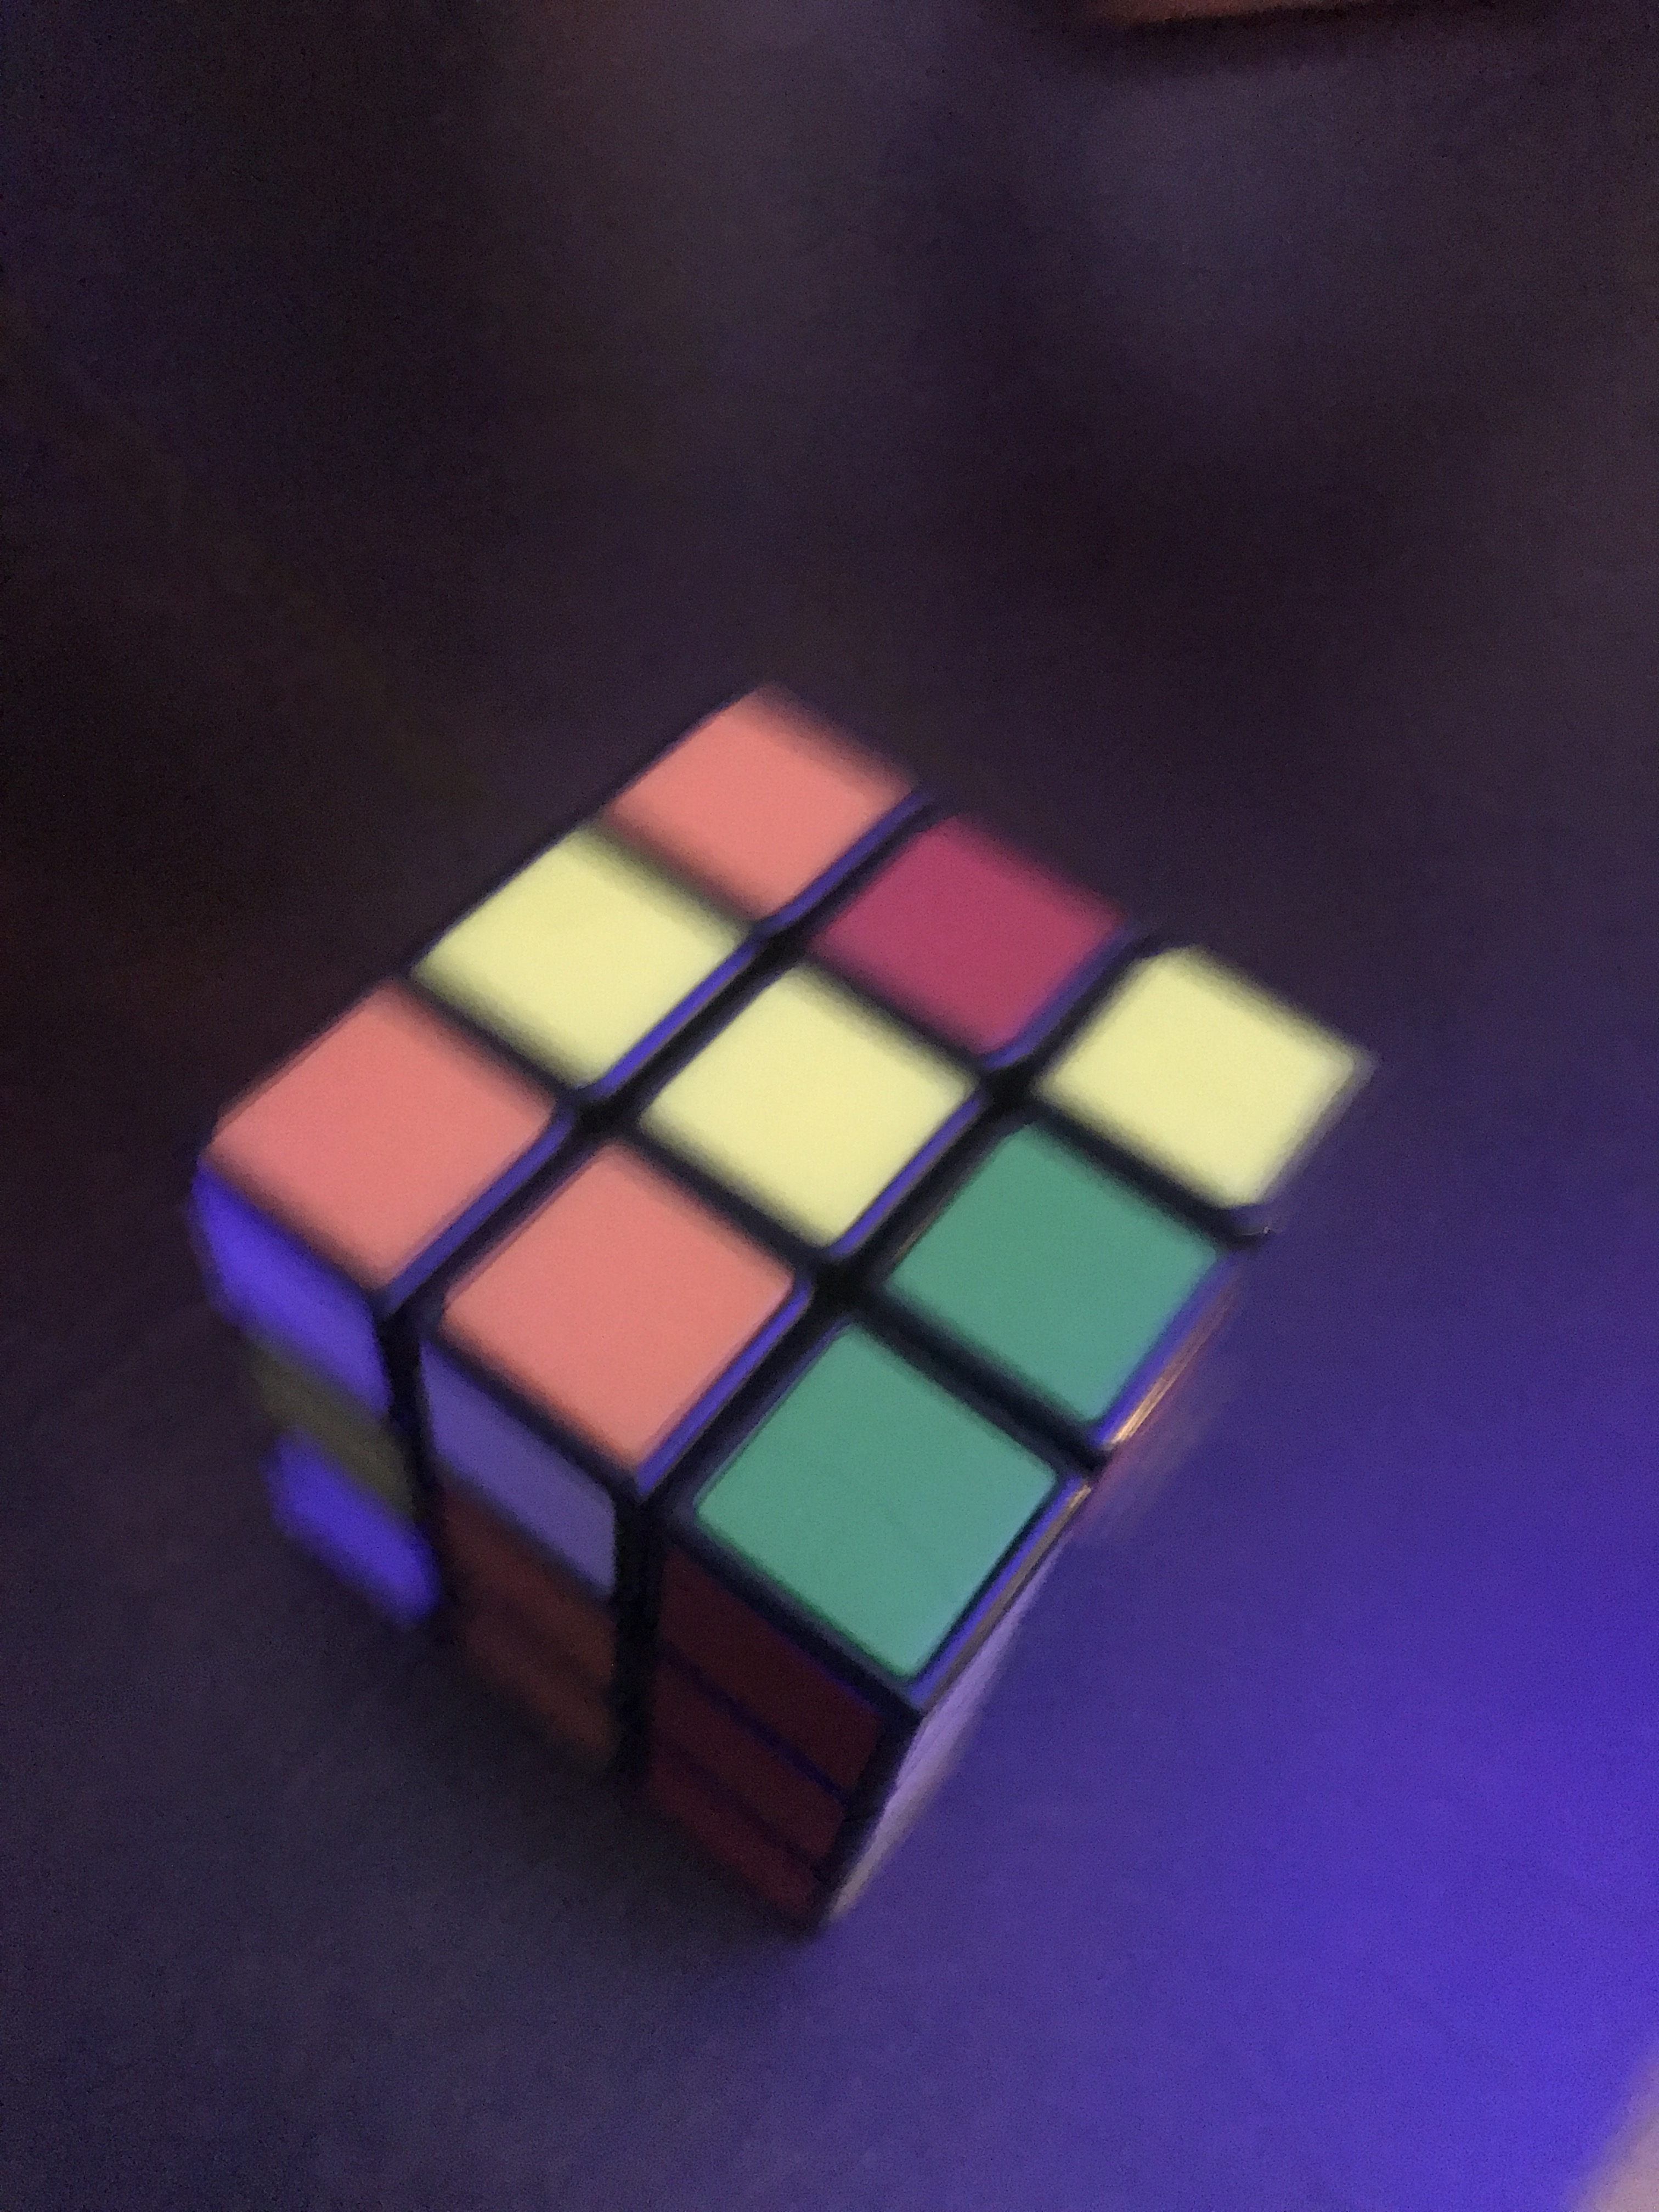rubiks: (197, 688, 1392, 1959)
